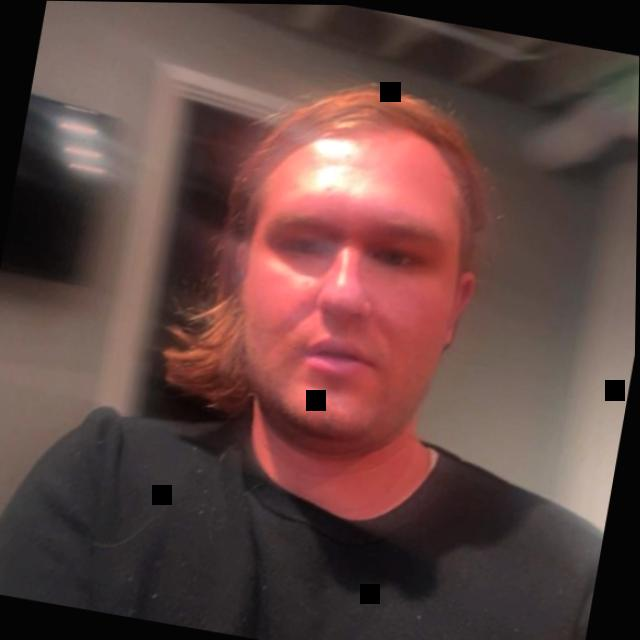NO-Mask: (127, 58, 492, 563)
